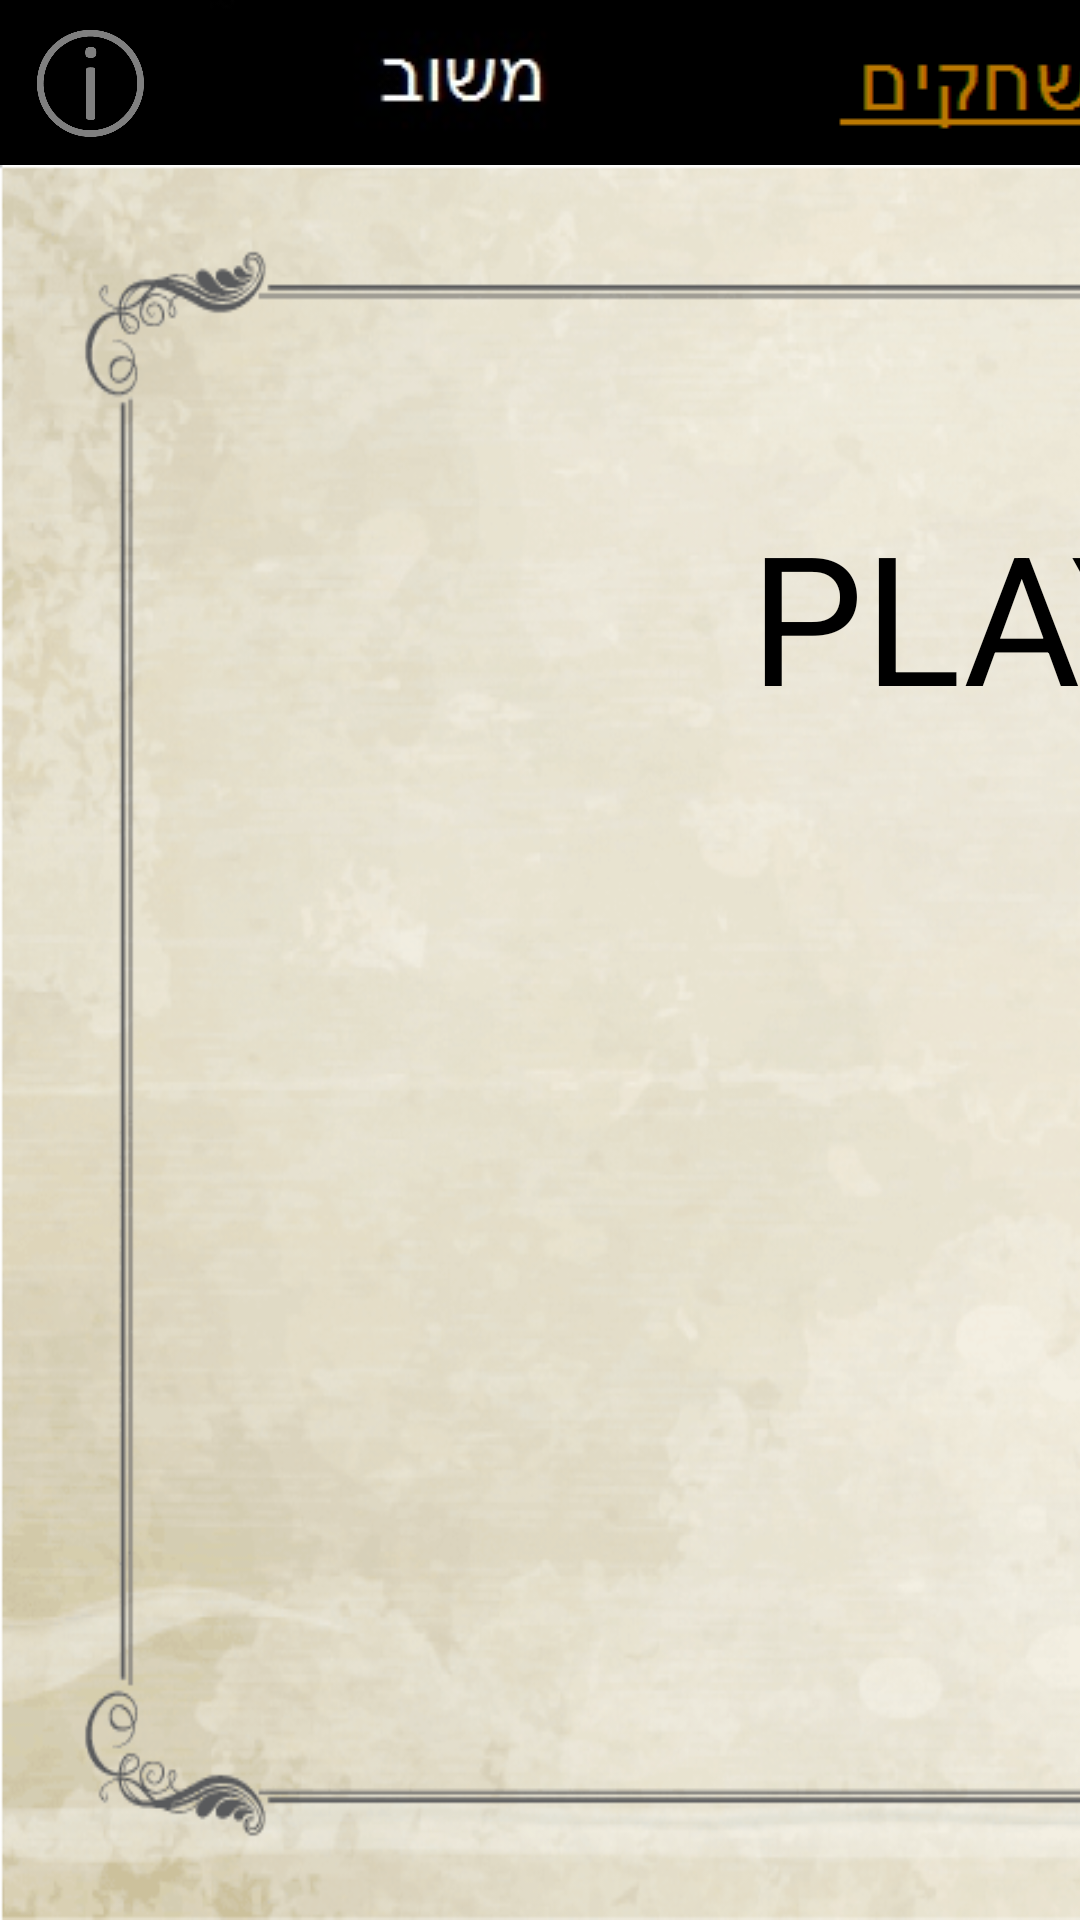

Named icons in this screenshot (1080×1920) and their centers, (x,y):
infobtn: (90,83)
